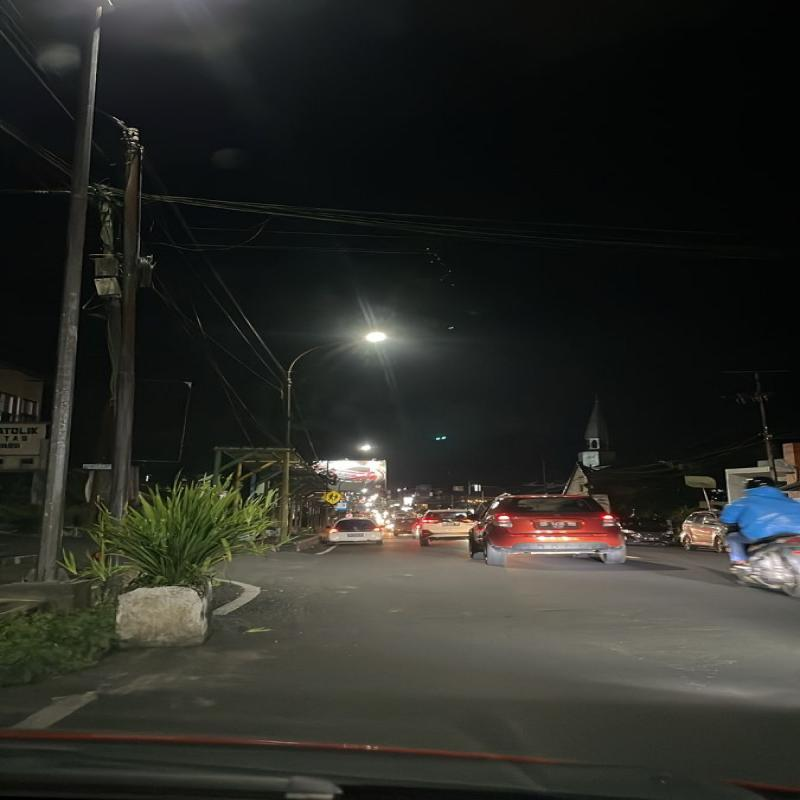license plate on a car: (536, 521, 580, 529), (345, 533, 367, 538), (442, 522, 461, 527)
